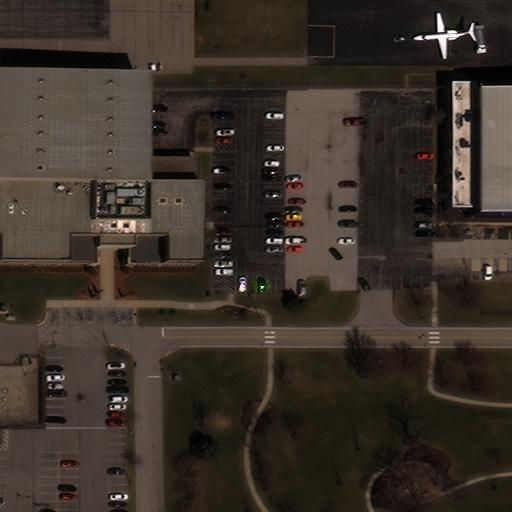Medium Civil Transport: (413, 13, 475, 59)
